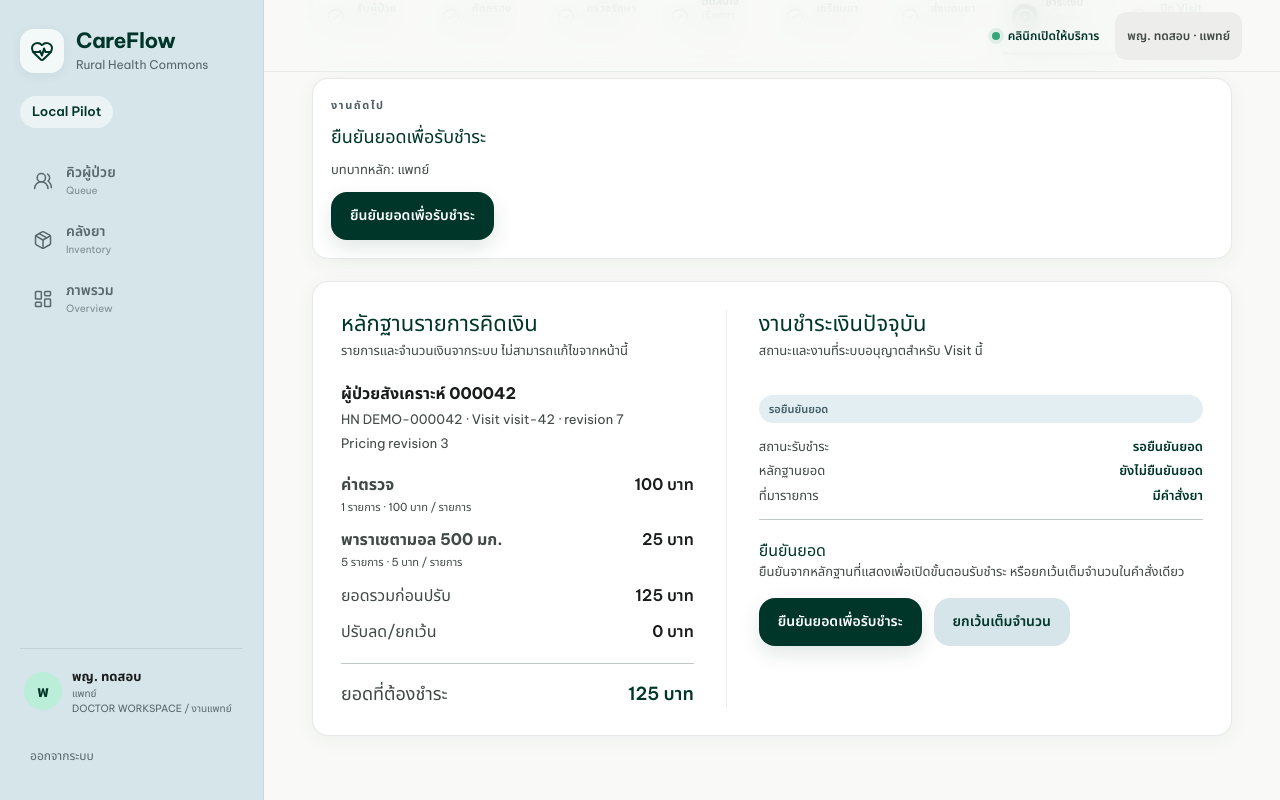
Thai checkout workflow › keeps a blocked waiver draft and exposes conflict reload inside the modal
The width and height of the screenshot is (1280, 800).
(page scrolled)
Step 1. Click the button "ยกเว้นเต็มจำนวน" → point(1002, 622), box [934,598,1070,646]
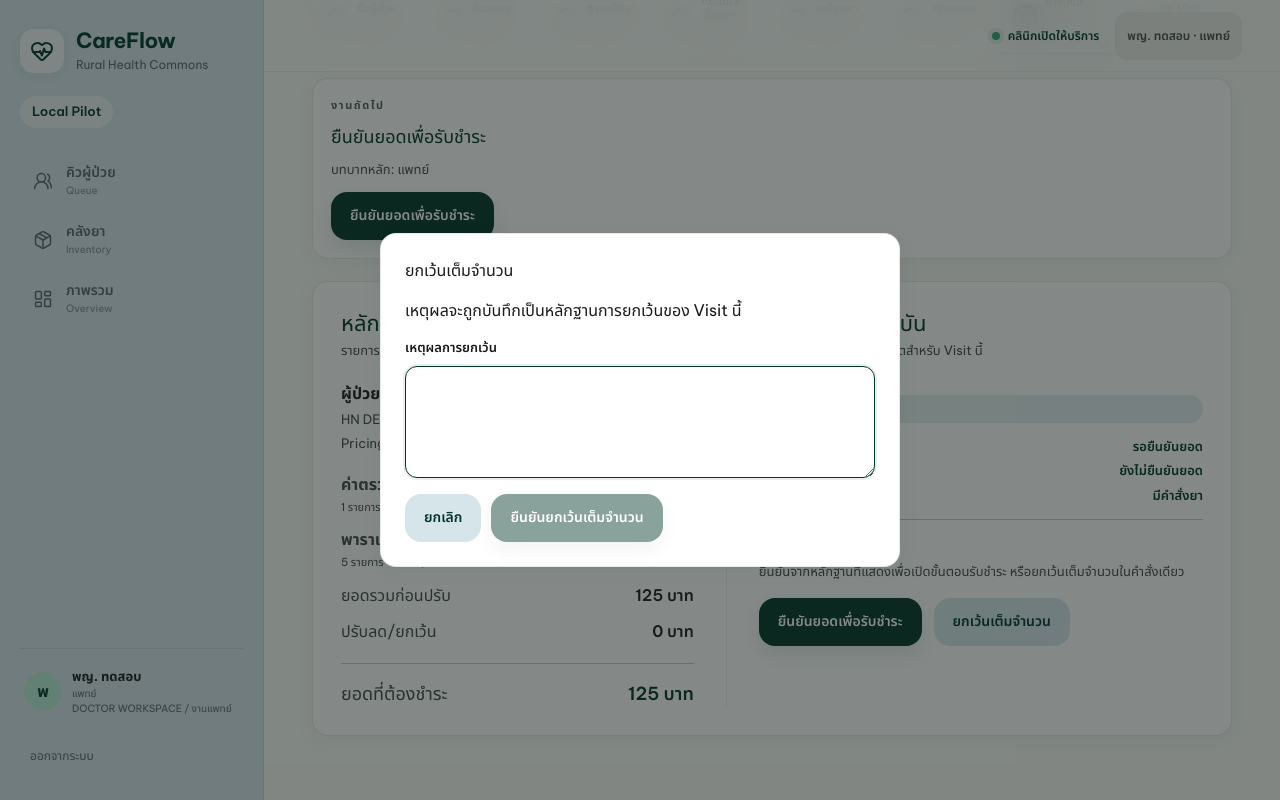
Step 2. Type "เกณฑ์ช่วยเหลือผู้ป่วย" into the text box labelled "เหตุผลการยกเว้น" → point(640, 422), box [405,366,875,478]
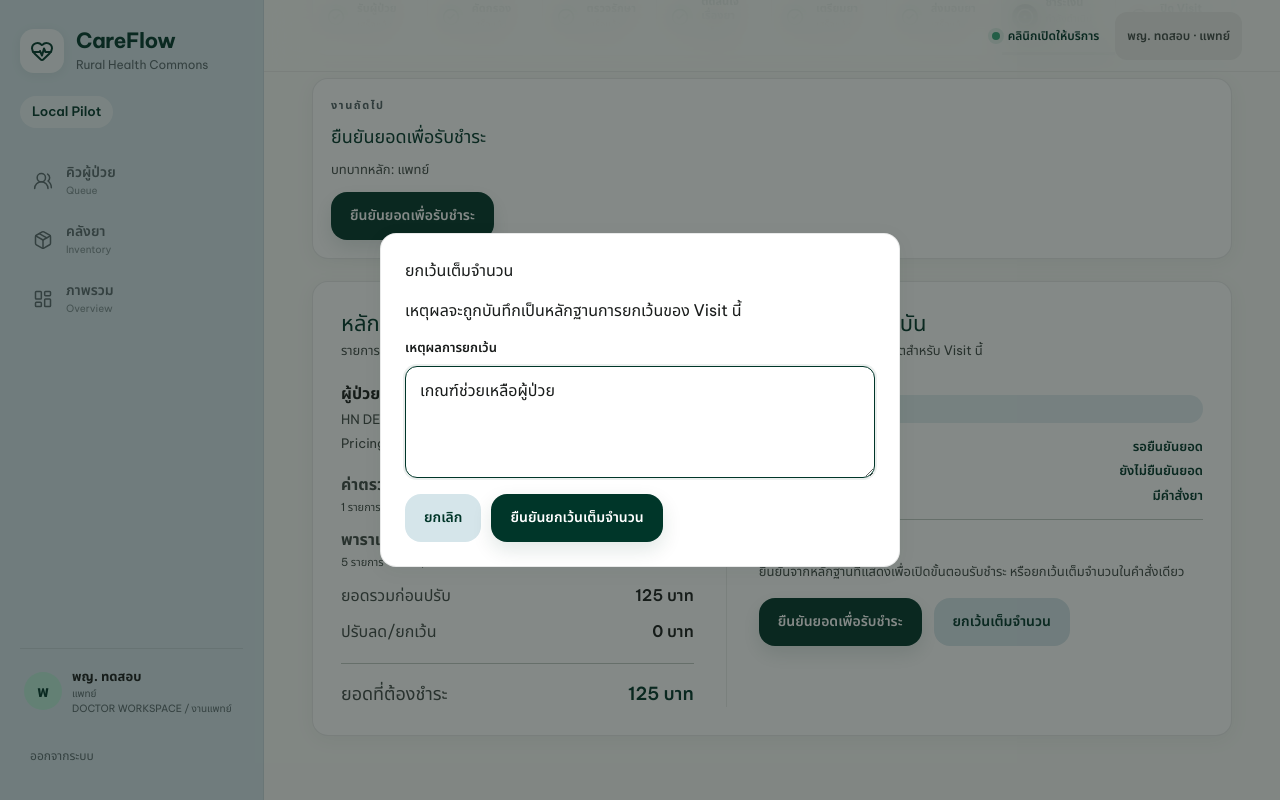
Step 3. Click the button "ยืนยันยกเว้นเต็มจำนวน" → point(577, 518), box [492,494,663,542]
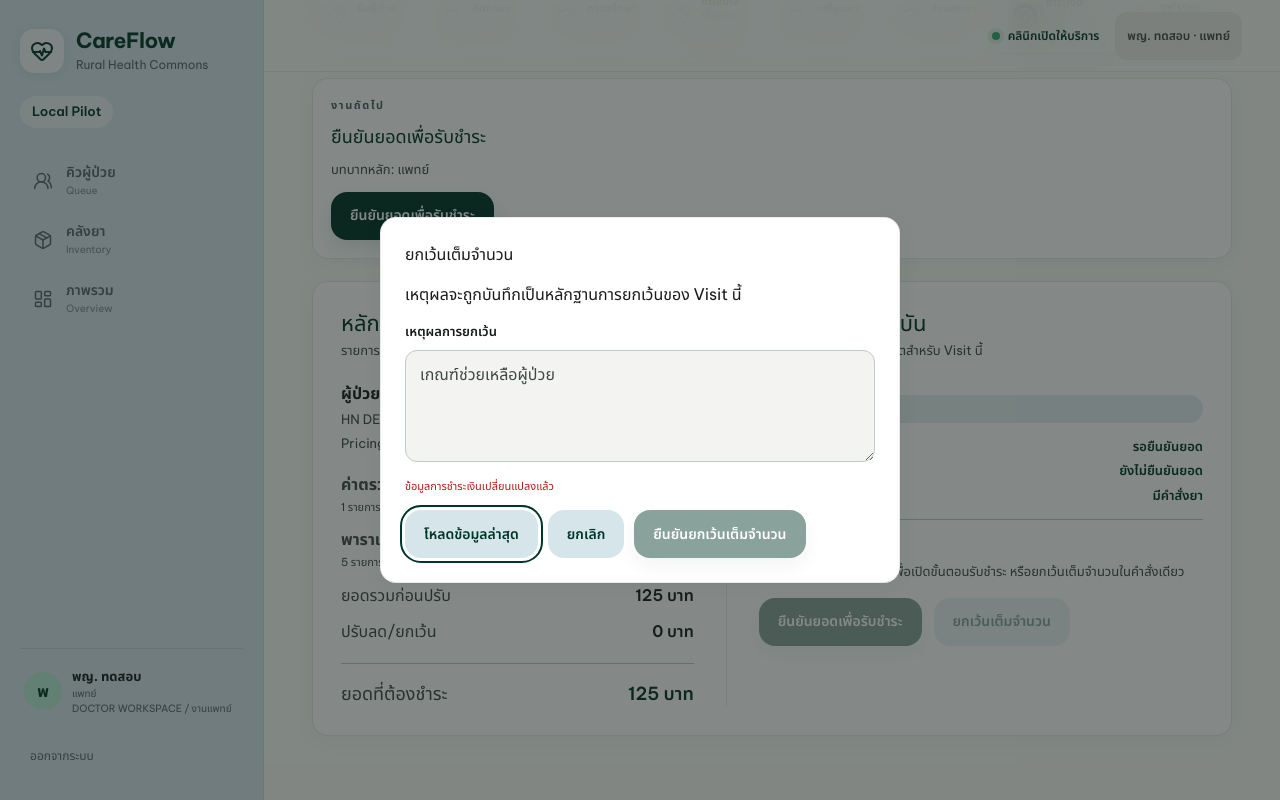
Check: the text "ข้อมูลการชำระเงินเปลี่ยนแปลงแล้ว" is shown, box [405,478,554,492]
Step 4. Click the button "โหลดข้อมูลล่าสุด" → point(471, 534), box [405,510,538,558]
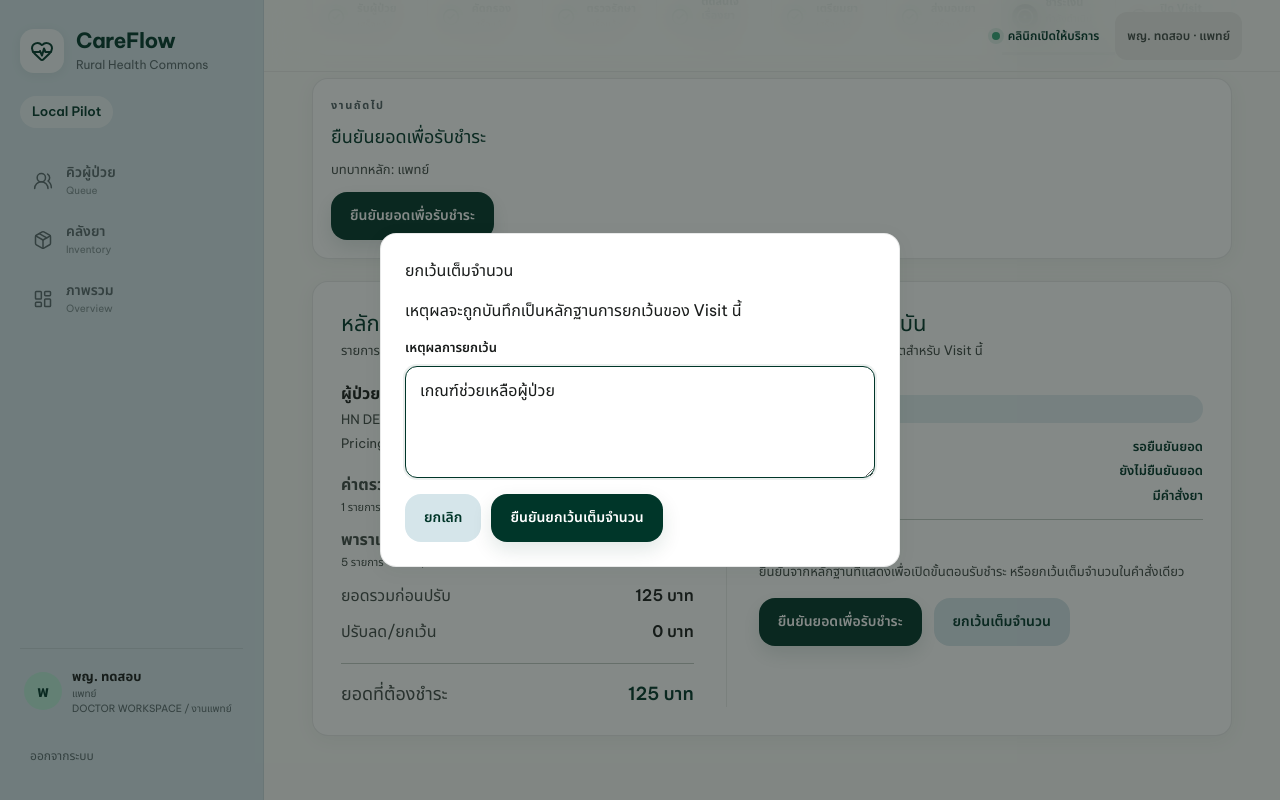
Check: the button "ยืนยันยกเว้นเต็มจำนวน" is enabled, box [492,494,663,542]
